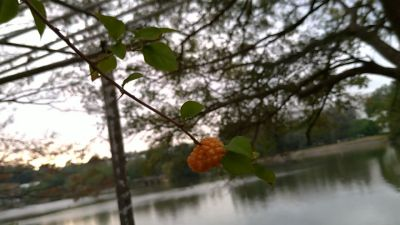eggs: (188, 137, 227, 171)
